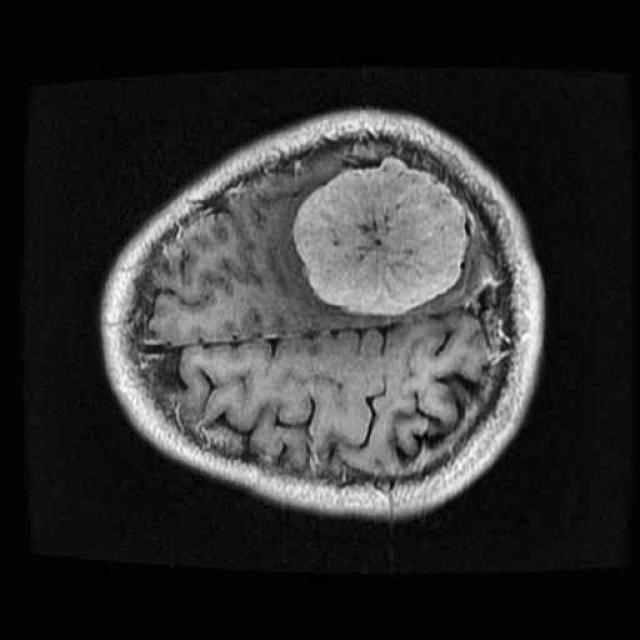Tumor: (280, 146, 481, 323)
